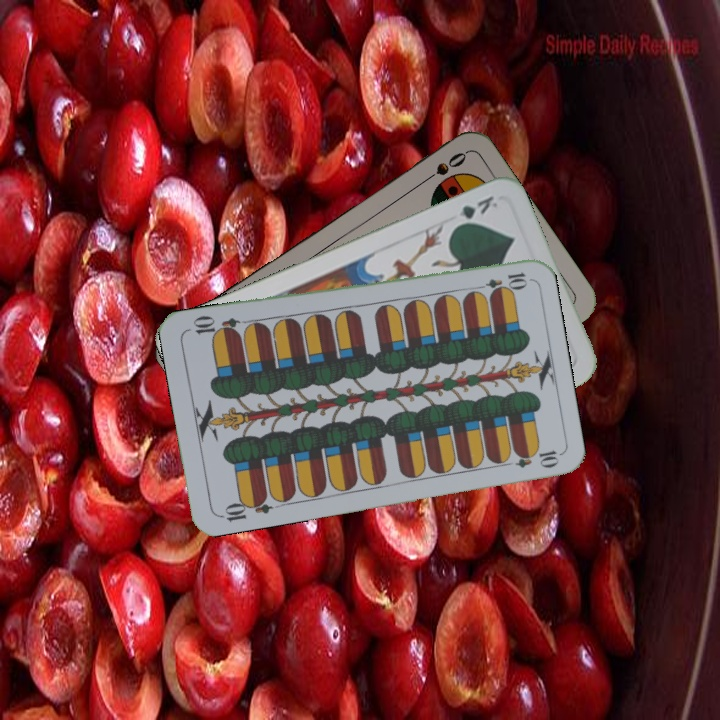E10: (215, 491, 274, 524), (471, 268, 530, 294)
GK: (448, 191, 501, 231)
SO: (417, 148, 470, 187)
